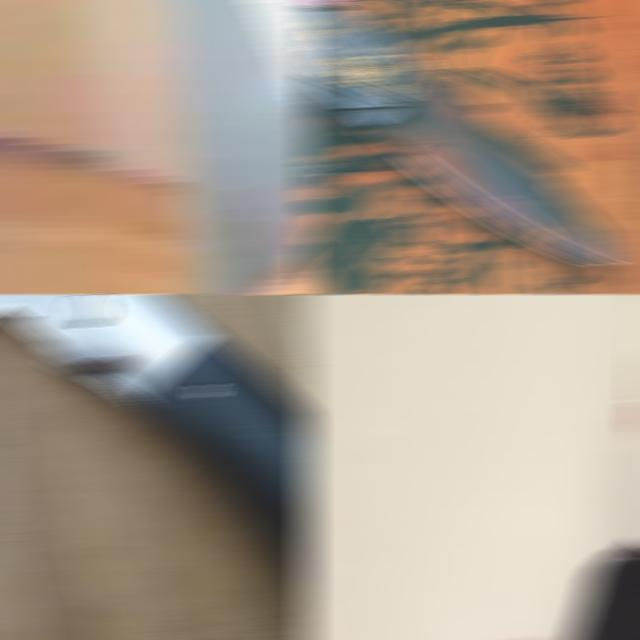Knife_Handle: (195, 0, 314, 294)
